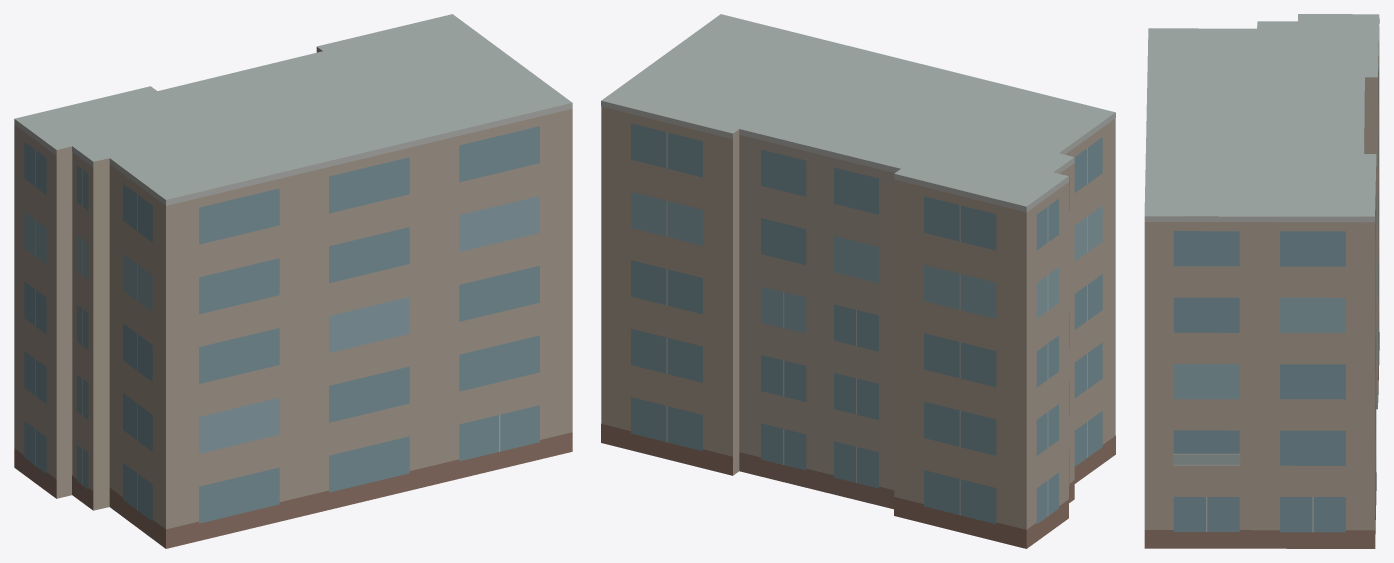
File: survey-upis-32767353.glb
The picture shows the model from 3 angles, left to right: view 1: azimuth 30°, elevation 25°; view 2: azimuth 150°, elevation 25°; view 3: azimuth 270°, elevation 25°; orthographic projection. The views are drawn at different scales.
Visible parts, largest first — view 1: survey-upis-32767353.tmp; view 2: survey-upis-32767353.tmp; view 3: survey-upis-32767353.tmp.
Part boxes in pixels (x1=…): survey-upis-32767353.tmp: x1=14, y1=14, x2=572, y2=548; survey-upis-32767353.tmp: x1=601, y1=14, x2=1115, y2=548; survey-upis-32767353.tmp: x1=1144, y1=14, x2=1379, y2=548.
Bounding box in the file's own units: 19 × 14.5 × 9.31.
